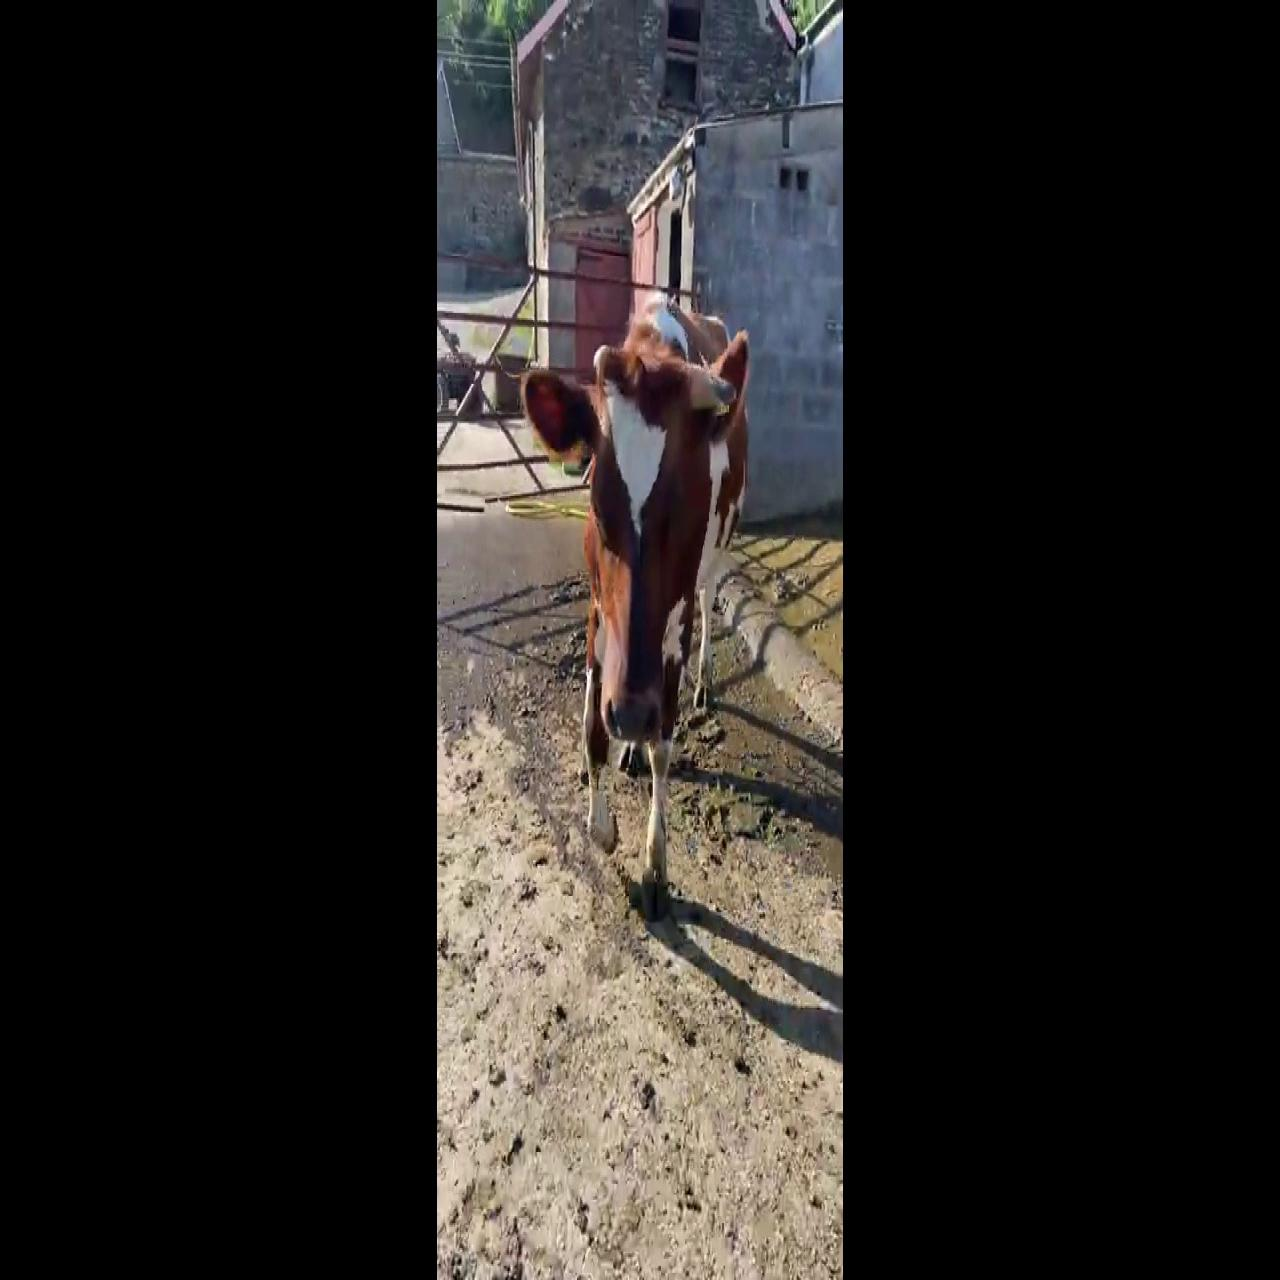Face: (590, 348, 698, 748)
